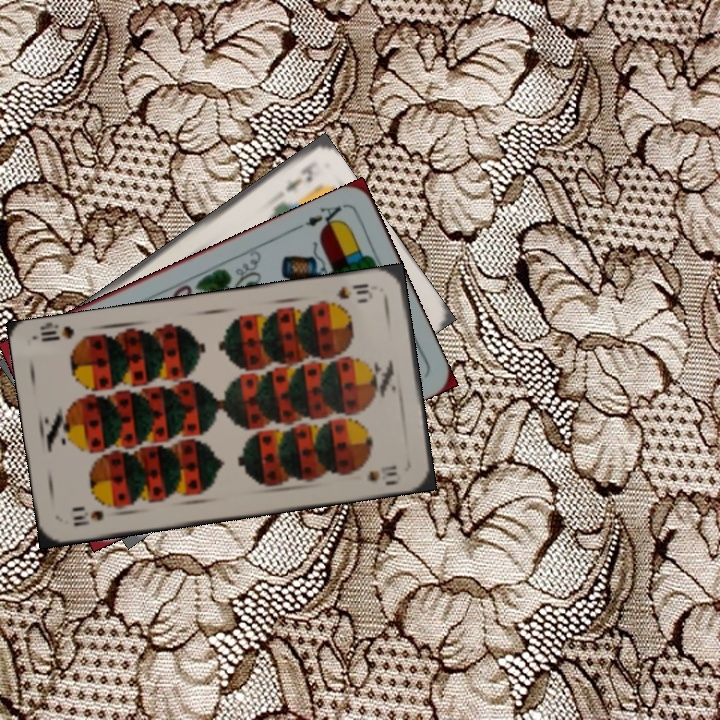EA: (301, 201, 347, 234)
EK: (281, 161, 316, 195)
S10: (333, 279, 376, 304), (68, 506, 106, 529)
